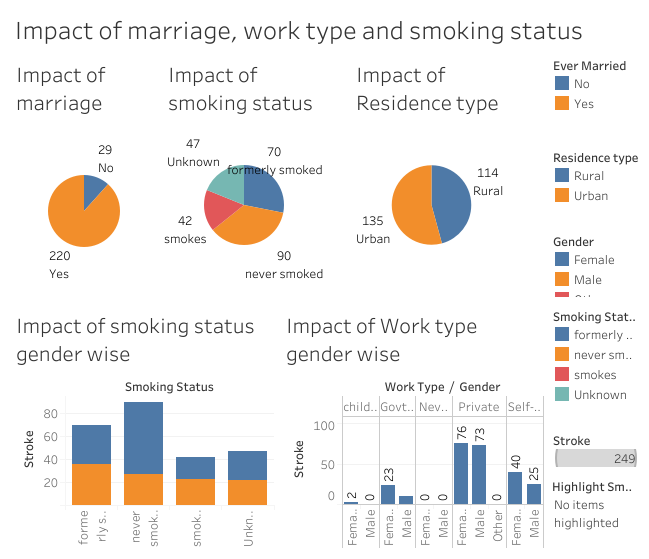

Layout of this report page (visuals, bound fields, positions):
{"tool":"tableau","page":{"name":"Dashboard 1","canvas":[650,860],"ordinal":0},"visuals":[{"type":"title","box":[8,12.3,634,64.5]},{"type":"worksheet","title":"Sheet 2","mark":"Pie","box":[8,76.8,139.5,385.5]},{"type":"worksheet","title":"Sheet 1","mark":"Pie","box":[147.5,76.8,200.2,385.5]},{"type":"worksheet","title":"Sheet 4","mark":"Pie","box":[347.8,76.8,200.2,385.5]},{"type":"legend","title":"Sheet 2","param":"[federated.0b1sdkh0x1iyli0zzvbkt1mu5nai].[none:ever_married:nk]","box":[548,76.8,94,141.3]},{"type":"legend","title":"Sheet 4","param":"[federated.0b1sdkh0x1iyli0zzvbkt1mu5nai].[none:Residence_type:nk]","box":[548,218.1,94,129]},{"type":"legend","title":"Sheet 5","param":"[federated.0b1sdkh0x1iyli0zzvbkt1mu5nai].[none:gender:nk]","box":[548,347.1,94,115.9]},{"type":"worksheet","title":"Sheet 5","mark":"Automatic","rows":["stroke"],"cols":["smoking_status"],"box":[8,462.2,270,385.5]},{"type":"worksheet","title":"Sheet 3","mark":"Bar","rows":["stroke"],"cols":["work_type","gender"],"box":[278,462.2,270,385.5]},{"type":"legend","title":"Sheet 1","param":"[federated.0b1sdkh0x1iyli0zzvbkt1mu5nai].[none:smoking_status:nk]","box":[548,462.9,94,190.4]},{"type":"legend","title":"Sheet 1","param":"[federated.0b1sdkh0x1iyli0zzvbkt1mu5nai].[sum:stroke:qk]","box":[548,653.4,94,72.2]},{"type":"highlighter","title":"Sheet 1","param":"[federated.0b1sdkh0x1iyli0zzvbkt1mu5nai].[none:smoking_status:nk]","box":[548,725.6,94,116.7]}]}

Visuals, with their boxes on the page's 650x860 design canvas (x1, y1, x2, y2). These are canvas units, not pixel positions in the 649x559 screenshot, which may show the page scaled, cropped or inside an application window:
title: (8,12,642,77)
"Sheet 2" worksheet (Pie marks): (8,77,148,462)
"Sheet 1" worksheet (Pie marks): (148,77,348,462)
"Sheet 4" worksheet (Pie marks): (348,77,548,462)
"Sheet 2" legend: (548,77,642,218)
"Sheet 4" legend: (548,218,642,347)
"Sheet 5" legend: (548,347,642,463)
"Sheet 5" worksheet: (8,462,278,848)
"Sheet 3" worksheet (Bar marks): (278,462,548,848)
"Sheet 1" legend: (548,463,642,653)
"Sheet 1" legend: (548,653,642,726)
"Sheet 1" highlighter: (548,726,642,842)
